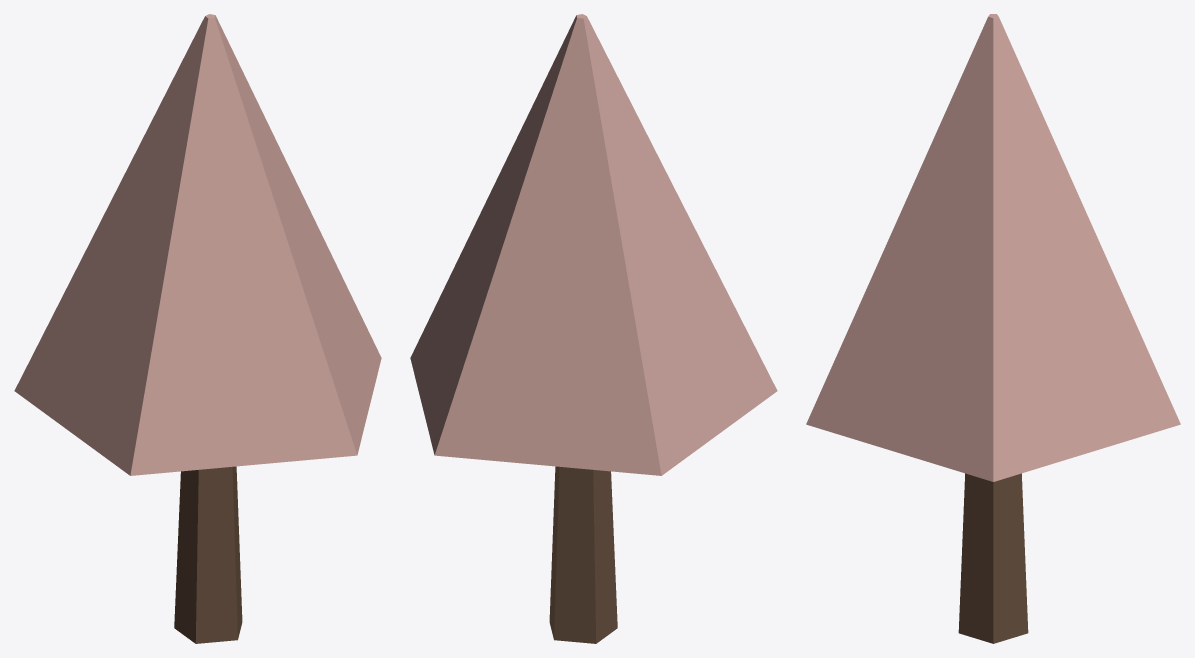
Rendered from Kit_CelestialSummit_Tree_LOD1.glb.
The picture shows the model from 3 angles, left to right: view 1: azimuth 30°, elevation 25°; view 2: azimuth 150°, elevation 25°; view 3: azimuth 270°, elevation 25°; orthographic projection.
Visible parts, largest first — view 1: Kit_CelestialSummit_Tree_LOD1_CelestialSummit_leaf_-1_0, Kit_CelestialSummit_Tree_LOD1_Warm timber_-1_0; view 2: Kit_CelestialSummit_Tree_LOD1_CelestialSummit_leaf_-1_0, Kit_CelestialSummit_Tree_LOD1_Warm timber_-1_0; view 3: Kit_CelestialSummit_Tree_LOD1_CelestialSummit_leaf_-1_0, Kit_CelestialSummit_Tree_LOD1_Warm timber_-1_0.
Boxes of the visible parts, x1,y1,x2,y2 form: Kit_CelestialSummit_Tree_LOD1_CelestialSummit_leaf_-1_0: [14, 14, 381, 475]; Kit_CelestialSummit_Tree_LOD1_Warm timber_-1_0: [174, 466, 242, 643]; Kit_CelestialSummit_Tree_LOD1_CelestialSummit_leaf_-1_0: [410, 14, 777, 475]; Kit_CelestialSummit_Tree_LOD1_Warm timber_-1_0: [549, 466, 617, 643]; Kit_CelestialSummit_Tree_LOD1_CelestialSummit_leaf_-1_0: [806, 14, 1180, 481]; Kit_CelestialSummit_Tree_LOD1_Warm timber_-1_0: [958, 473, 1028, 643].
Size of the model in its own units: 12.66 by 24 by 13.31.
